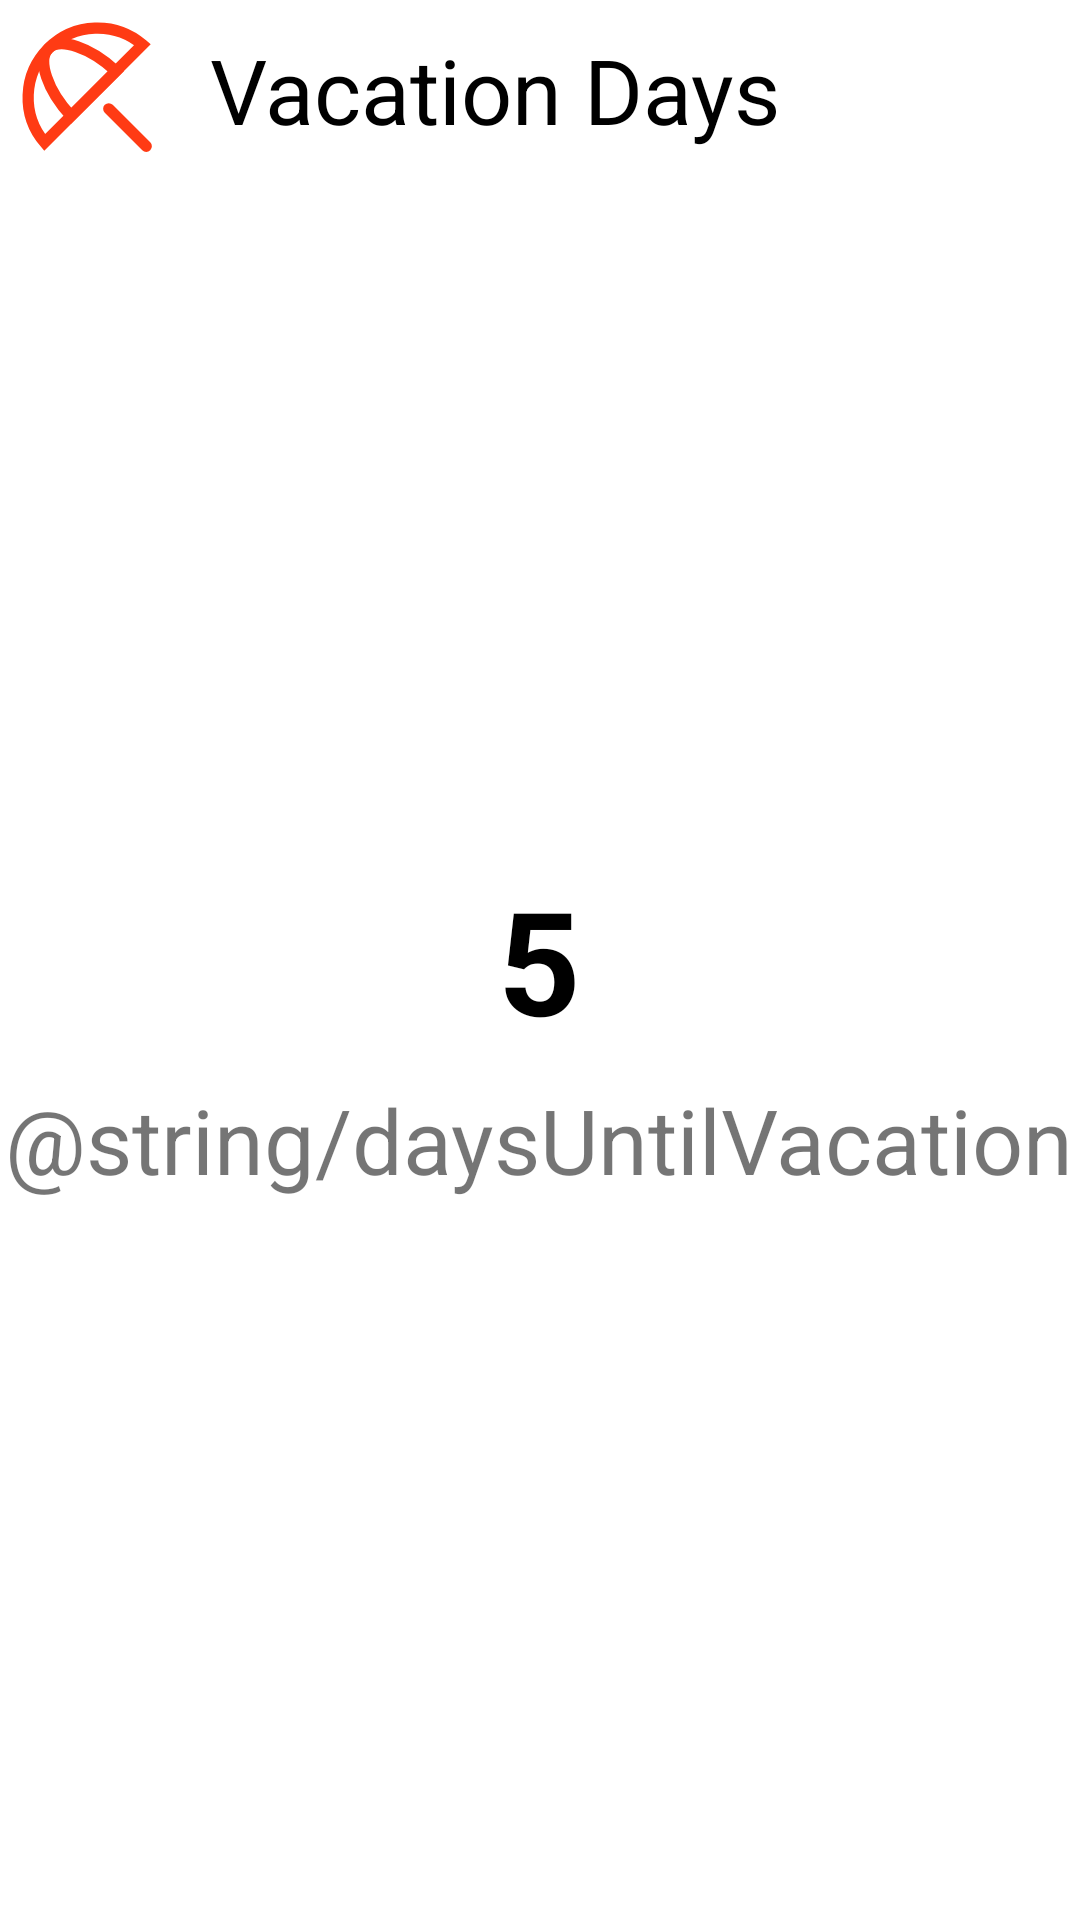

Icon click points for this 1080px×1920px phone screenshot, format (x,y):
Jours avant les vacances: (87,87)
